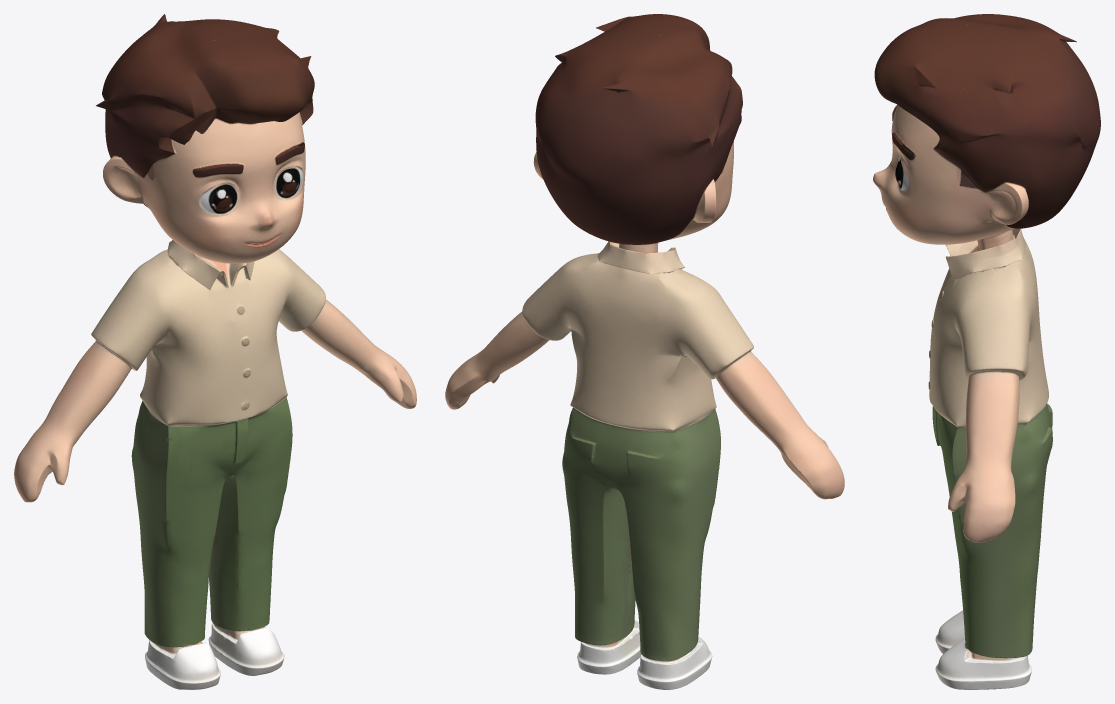
File: char_namja_jubu_base.glb
3 renders of one model, left to right at view 1: azimuth 30°, elevation 25°; view 2: azimuth 150°, elevation 25°; view 3: azimuth 270°, elevation 25°, orthographic.
Size of the model in its own units: 0.9744 by 1.5 by 0.4883.
Materials: 1 (1 with a texture image).
